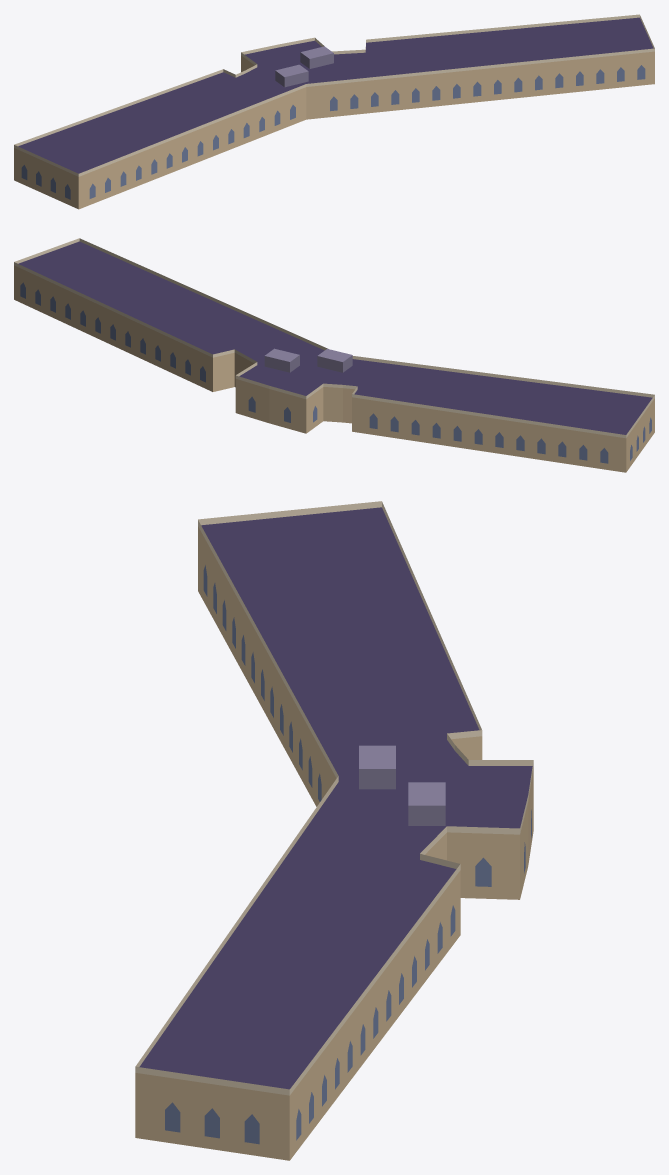
Rendered from b-057-westminster-hall-day.glb.
The picture shows the model from 3 angles, top to bottom: view 1: azimuth 30°, elevation 25°; view 2: azimuth 150°, elevation 25°; view 3: azimuth 270°, elevation 25°; orthographic projection. The views are drawn at different scales.
Parts seen in each view (by area): view 1: campus/b-057-westminster-hall-day-0; view 2: campus/b-057-westminster-hall-day-0; view 3: campus/b-057-westminster-hall-day-0.
Part boxes in pixels (left/top/right/bottom): campus/b-057-westminster-hall-day-0: left=14, top=14, right=654, bottom=209; campus/b-057-westminster-hall-day-0: left=14, top=238, right=654, bottom=472; campus/b-057-westminster-hall-day-0: left=135, top=501, right=533, bottom=1160.
Bounding box in the file's own units: 112 × 7.6 × 32.09.
